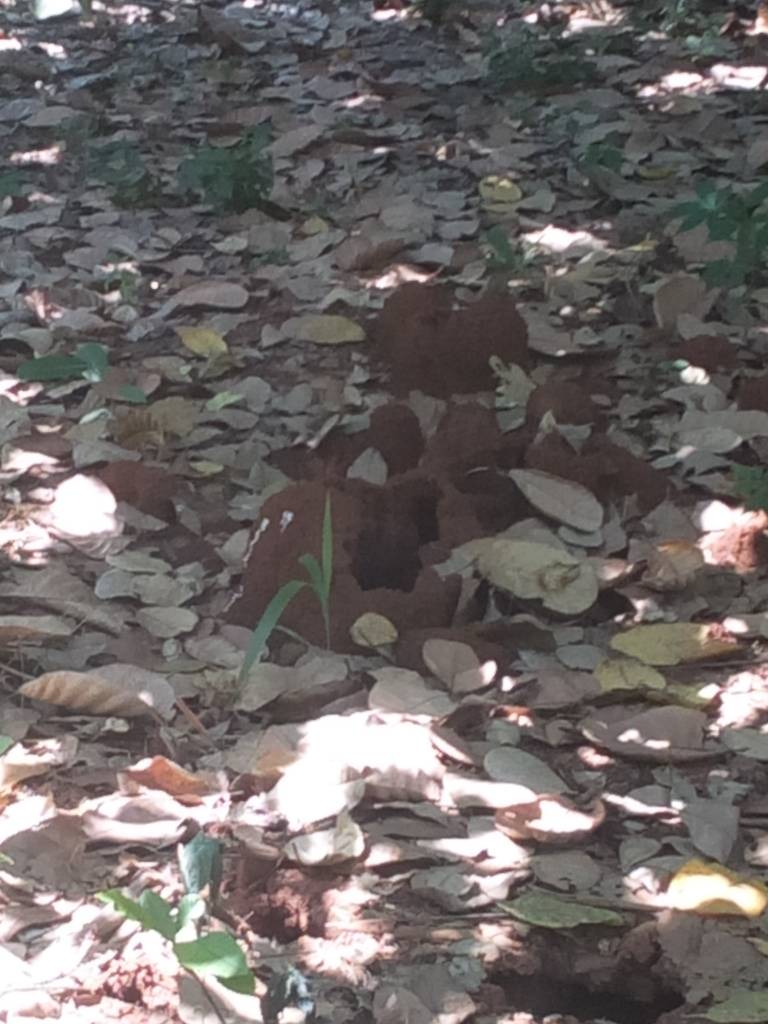Termites: (257, 463, 471, 636)
